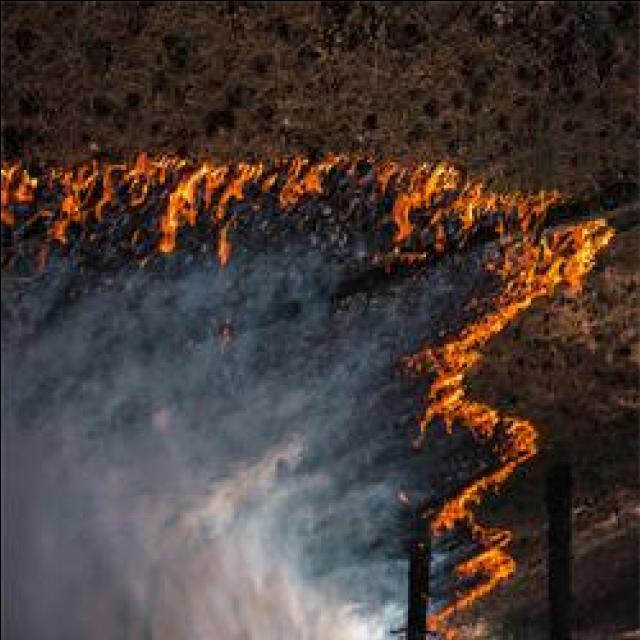fire: (484, 219, 612, 293)
smoke: (198, 416, 408, 633), (51, 522, 294, 634), (0, 413, 83, 640)
